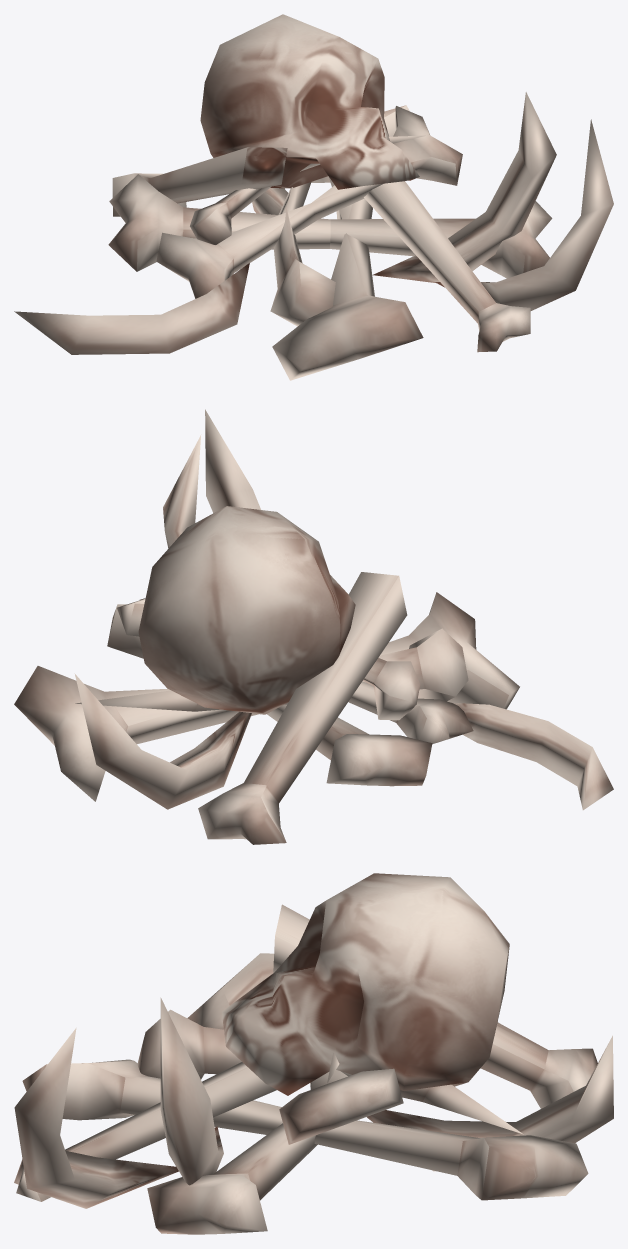
The model's file is maya2sketchfab.obj.
3 views of the same model, one above another, from view 1: azimuth 30°, elevation 25°; view 2: azimuth 150°, elevation 25°; view 3: azimuth 270°, elevation 25° (orthographic). The views are drawn at different scales.
Parts seen in each view (by area): view 1: Skeleton_PileOfBones1; view 2: Skeleton_PileOfBones1; view 3: Skeleton_PileOfBones1.
Boxes of the visible parts, x1,y1,x2,y2 form: Skeleton_PileOfBones1: (14,14,613,380); Skeleton_PileOfBones1: (14,409,613,844); Skeleton_PileOfBones1: (14,873,613,1234).
Size of the model in its own units: 85.93 by 40.98 by 75.4.
1 material, 1 textured.
